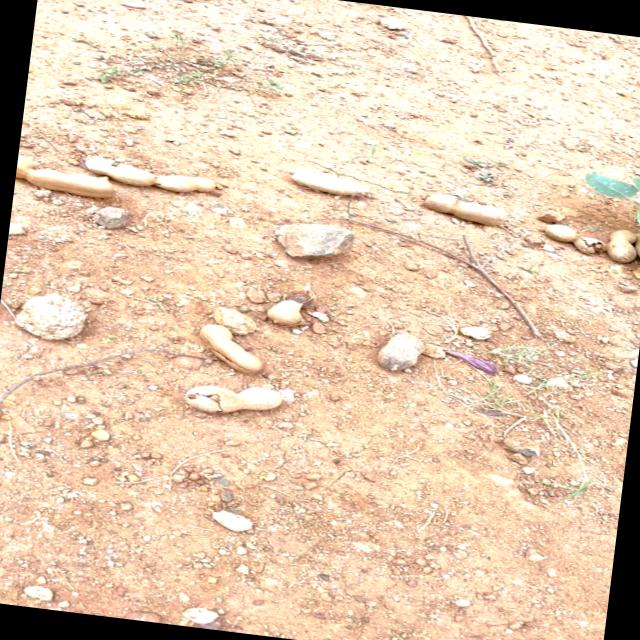tamarind: (76, 150, 225, 199), (13, 149, 126, 203), (182, 378, 288, 422), (190, 323, 272, 377), (422, 186, 509, 228), (286, 166, 378, 204), (540, 220, 612, 260), (374, 329, 428, 374), (262, 291, 316, 331), (606, 225, 640, 265)
